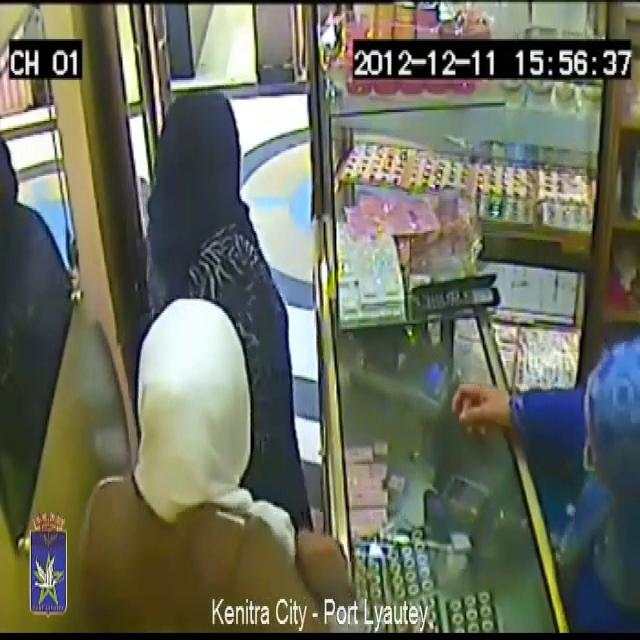normal: (112, 321, 309, 640), (102, 49, 262, 423), (479, 283, 640, 640)
